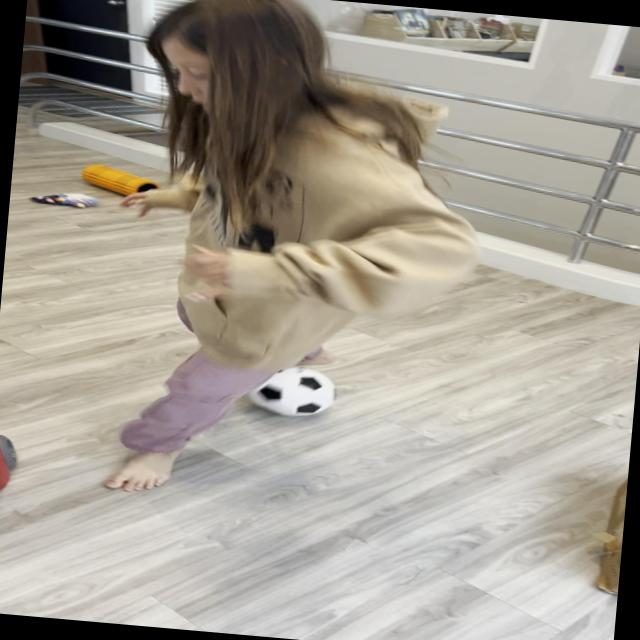Soccer Ball: (246, 361, 340, 420)
